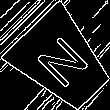N_SE: (30, 30, 94, 94)
